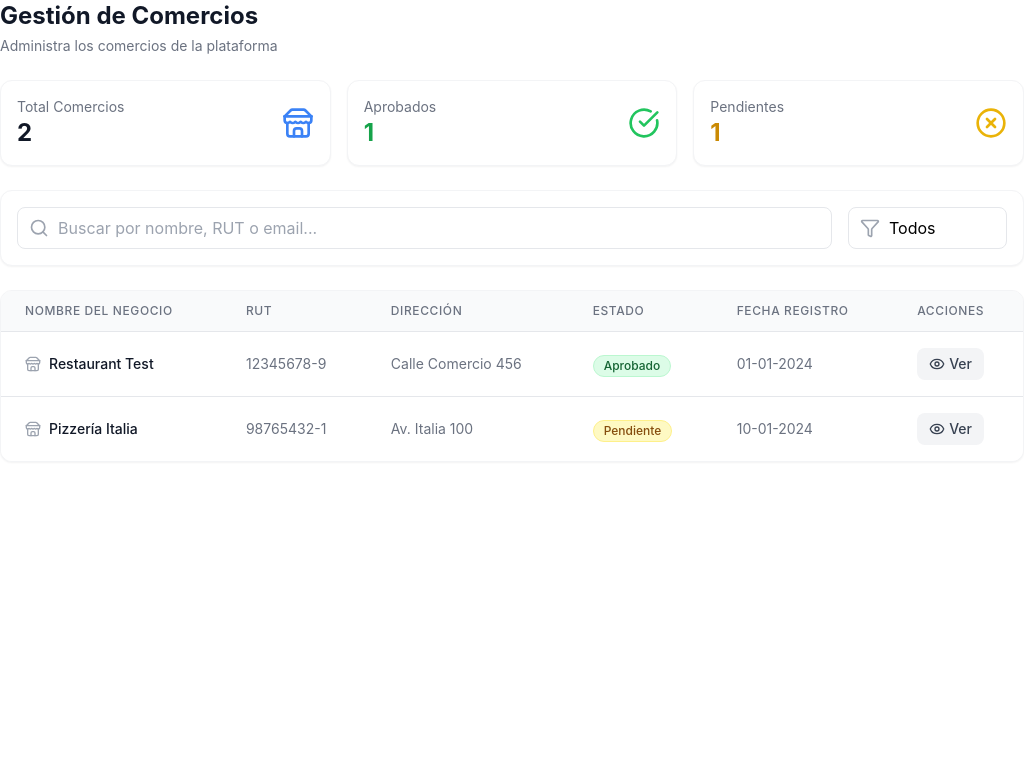
Test: Merchants Component › Modal de detalle › debe mostrar botón de aprobar para comercios pendientes
This screenshot has width=1024, height=768.
Expected: the text "Pizzería Italia" is shown, [49, 419, 138, 439]
Click the button "Ver" in the row of "Pizzería Italia" at (951, 429), box [917, 413, 984, 445]
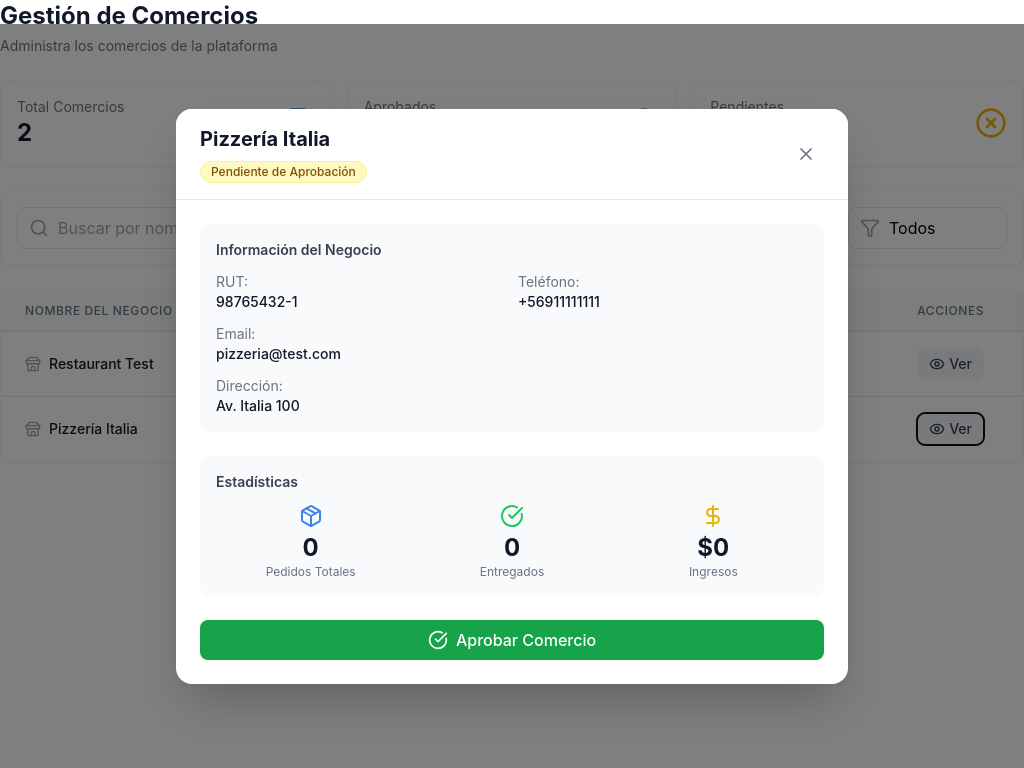
Expected: the button "Aprobar Comercio" is shown, [200, 620, 824, 660]
